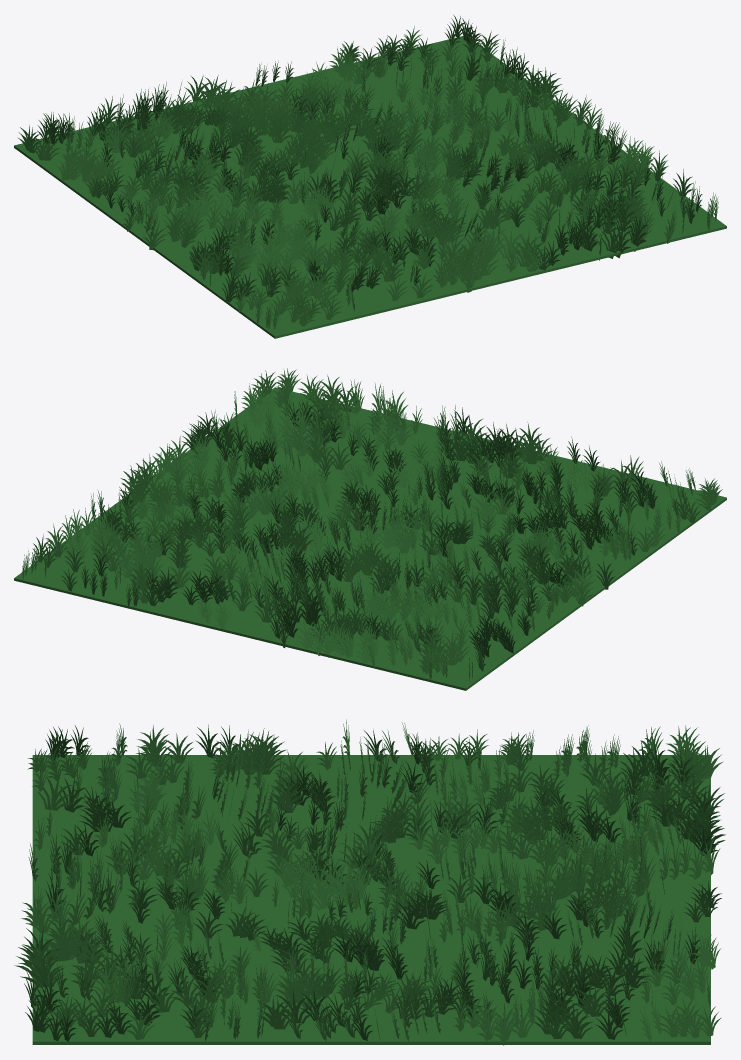
Rendered from SP_GrassTile_v01.fbx.
3 renders of one model, top to bottom at view 1: azimuth 30°, elevation 25°; view 2: azimuth 150°, elevation 25°; view 3: azimuth 270°, elevation 25°, orthographic. The views are drawn at different scales.
Visible parts, largest first — view 1: SP_GrassTile_v01; view 2: SP_GrassTile_v01; view 3: SP_GrassTile_v01.
Part boxes in pixels (x1=…): SP_GrassTile_v01: x1=14, y1=14, x2=726, y2=338; SP_GrassTile_v01: x1=14, y1=368, x2=726, y2=690; SP_GrassTile_v01: x1=14, y1=719, x2=725, y2=1045.
Bounding box in the file's own units: 716 × 54.29 × 719.
